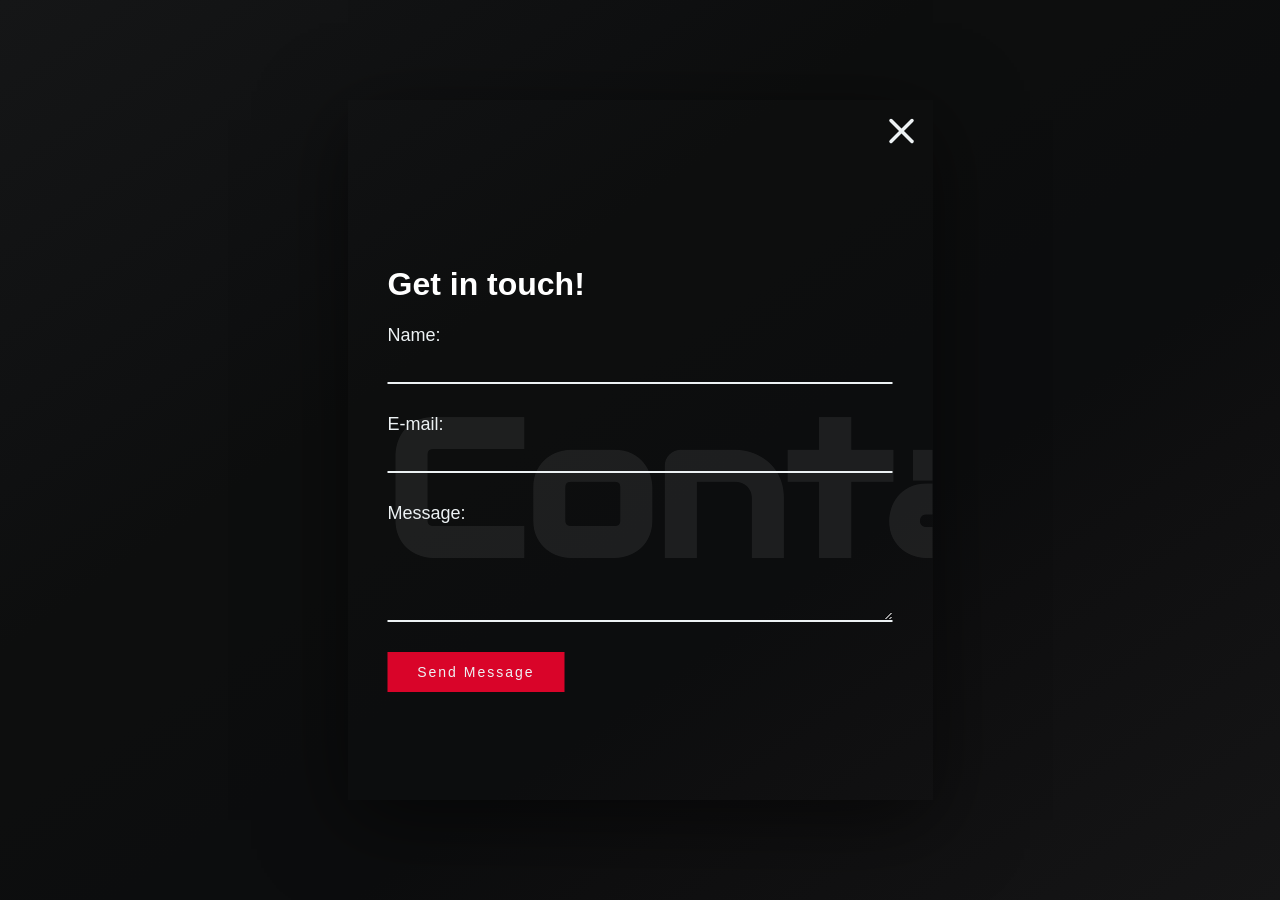
Test: ContactForm › shows required validation for every field when submitted empty
This screenshot has width=1280, height=900.
Click the button "Send Message".
click(476, 672)  # box [388,652,564,692]
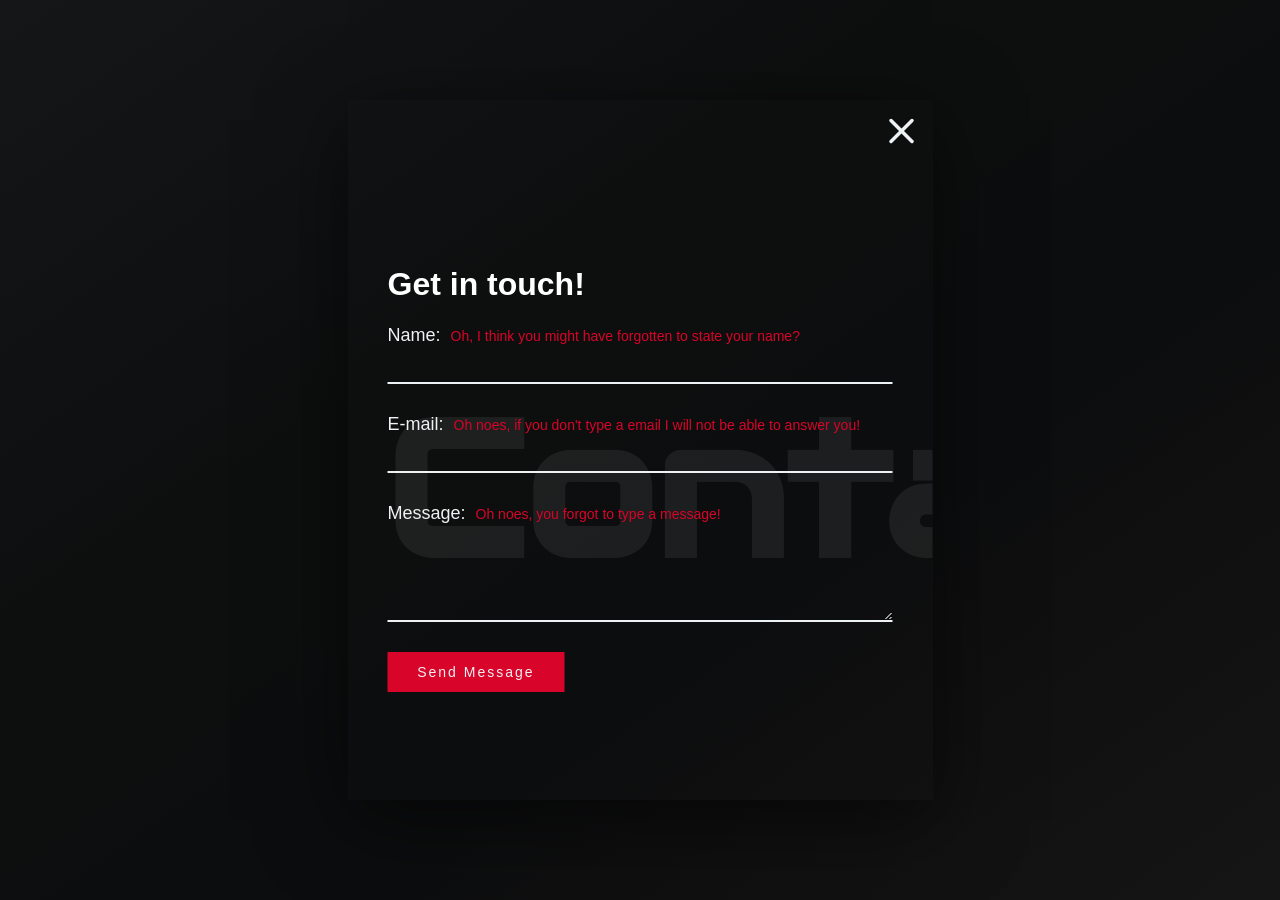
Check: the text "Oh noes, if you don't type a email I will not be able to answer you!" is shown, box [454,417,860,433]
Check: the text "Oh noes, you forgot to type a message!" is shown, box [476,506,721,522]
